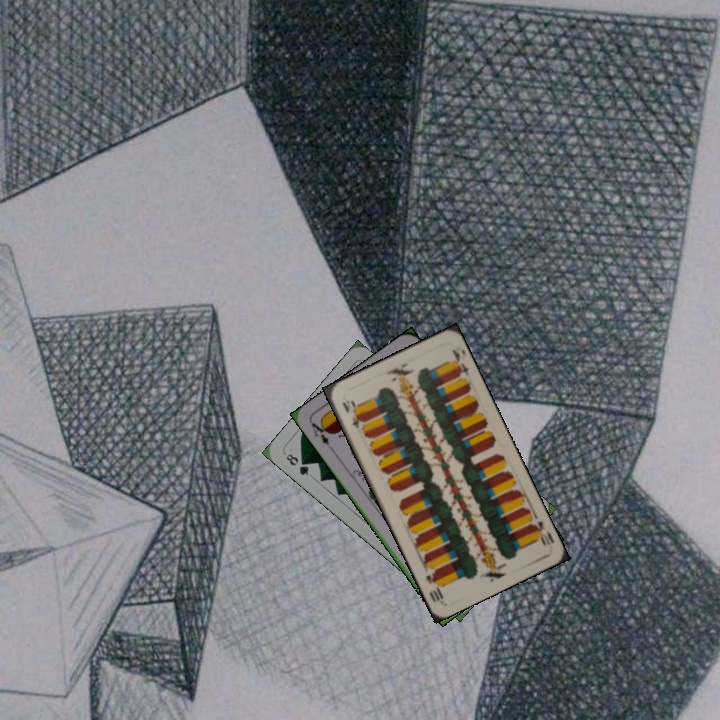E10: (525, 513, 556, 548), (338, 396, 364, 431)
EA: (306, 417, 335, 453)
G8: (282, 449, 311, 478)
